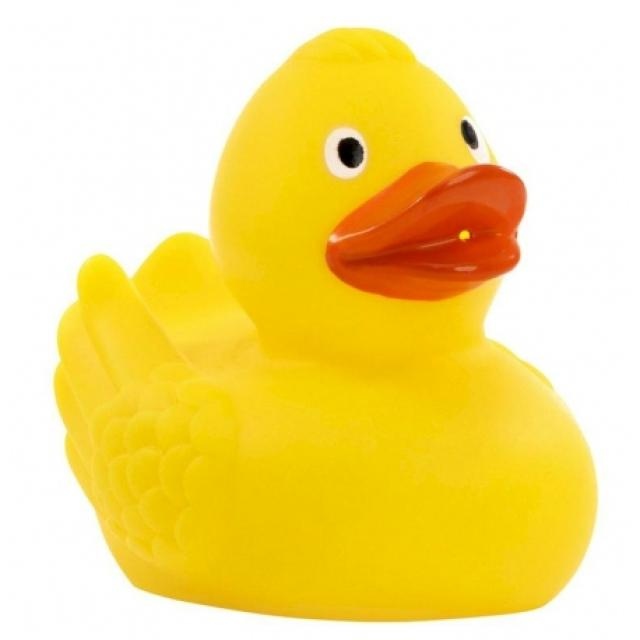Duck: (52, 27, 599, 625)
